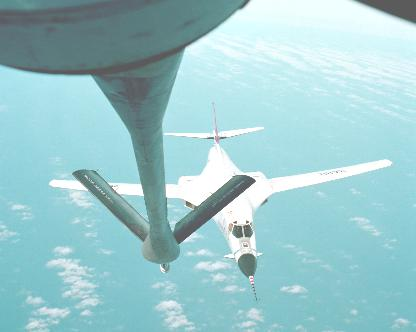AV8B: (50, 102, 394, 304)
